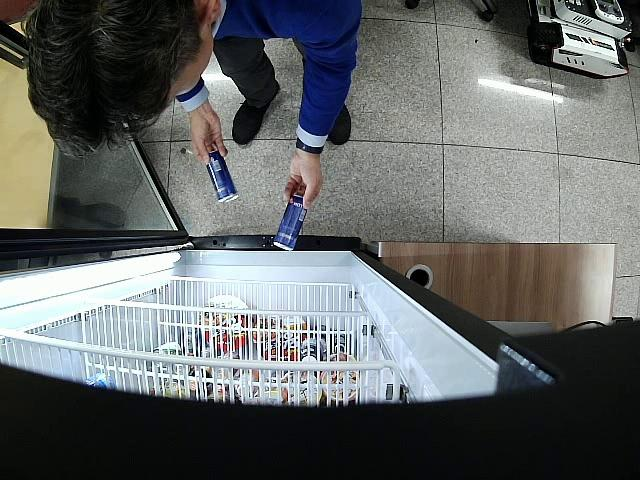00_hand: (282, 155, 322, 209), (188, 113, 228, 165)
16_hot6: (274, 194, 307, 250), (206, 150, 239, 202)
